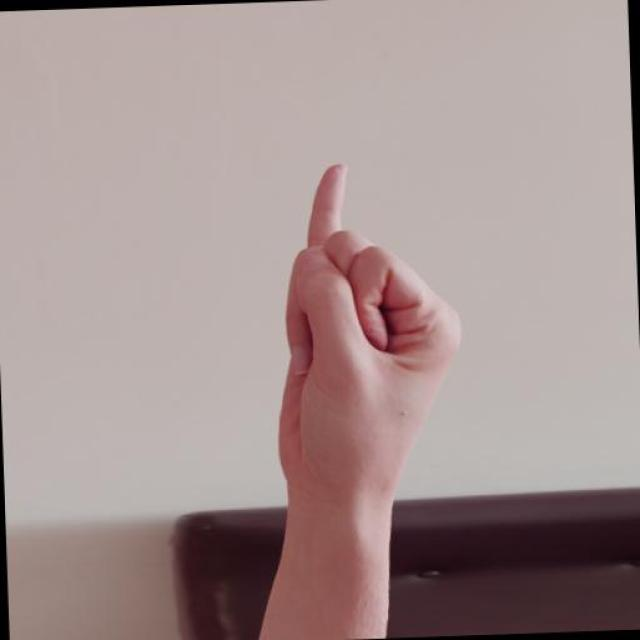I: (261, 142, 478, 532)
